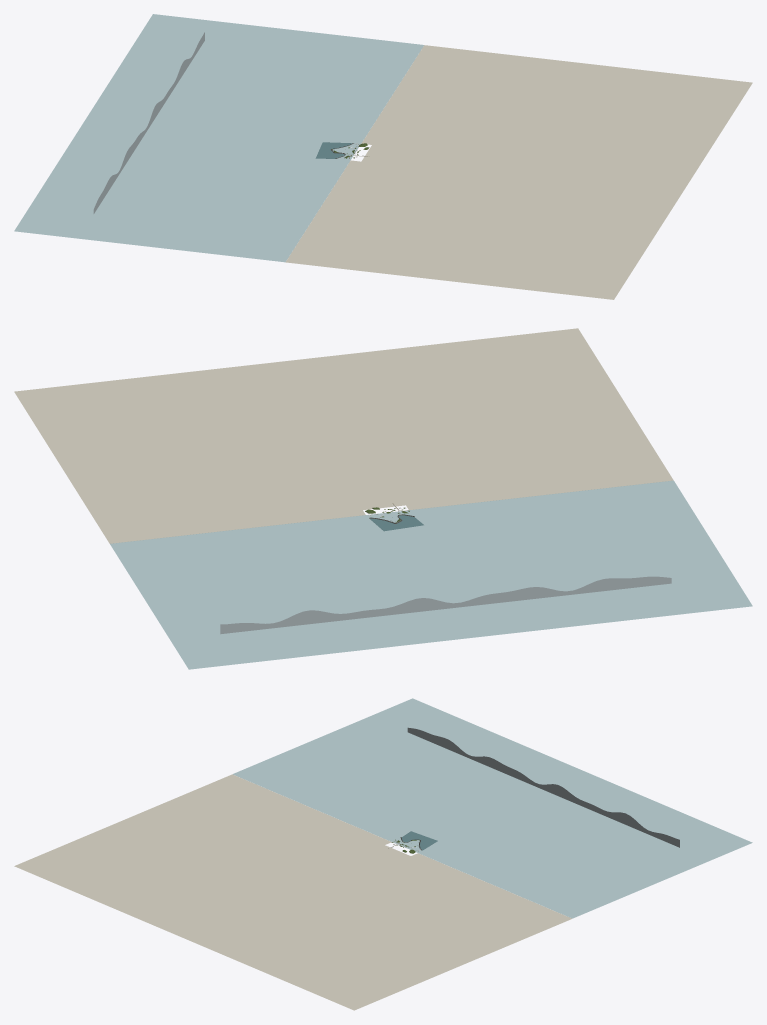
The model's file is context.glb.
3 views of the same model, one above another, from view 1: azimuth 30°, elevation 25°; view 2: azimuth 150°, elevation 25°; view 3: azimuth 270°, elevation 25° (orthographic). The views are drawn at different scales.
Visible parts, largest first — view 1: context__ENV_bare_ground.005, context__ENV_water.005, context__ENV_hazy_distant_land.002; view 2: context__ENV_bare_ground.005, context__ENV_water.005, context__ENV_hazy_distant_land.002; view 3: context__ENV_bare_ground.005, context__ENV_water.005, context__ENV_hazy_distant_land.002.
Part boxes in pixels (x1=…): context__ENV_bare_ground.005: x1=285, y1=45, x2=752, y2=299; context__ENV_water.005: x1=14, y1=14, x2=423, y2=262; context__ENV_hazy_distant_land.002: x1=93, y1=32, x2=204, y2=213; context__ENV_bare_ground.005: x1=14, y1=328, x2=673, y2=543; context__ENV_water.005: x1=110, y1=480, x2=752, y2=669; context__ENV_hazy_distant_land.002: x1=220, y1=576, x2=671, y2=634; context__ENV_bare_ground.005: x1=14, y1=774, x2=571, y2=1010; context__ENV_water.005: x1=233, y1=698, x2=752, y2=918; context__ENV_hazy_distant_land.002: x1=407, y1=727, x2=679, y2=847.
Bounding box in the file's own units: 5514 × 95.02 × 5516.
26 materials, 18 textured.
